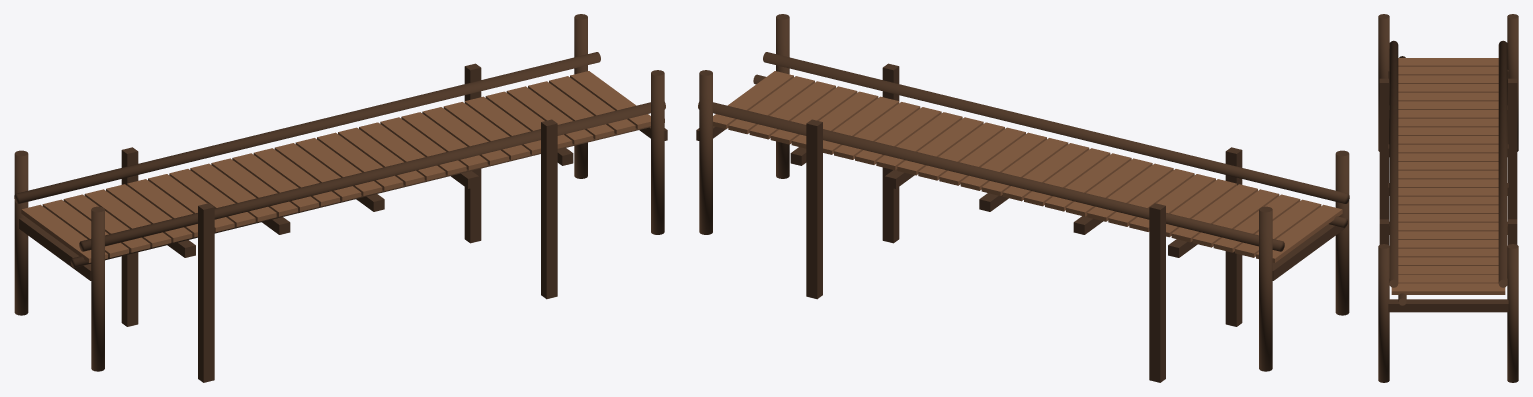
File: Bridge_02_testExport.fbx
3 views of the same model, side by side, from view 1: azimuth 30°, elevation 25°; view 2: azimuth 150°, elevation 25°; view 3: azimuth 270°, elevation 25° (orthographic). The views are drawn at different scales.
Parts seen in each view (by area): view 1: boardStraight; view 2: boardStraight; view 3: boardStraight.
Boxes of the visible parts, bbox=[...] form: boardStraight: bbox=[14, 14, 667, 382]; boardStraight: bbox=[696, 14, 1349, 382]; boardStraight: bbox=[1378, 14, 1518, 382].
Size of the model in its own units: 2319 by 739 by 568.
